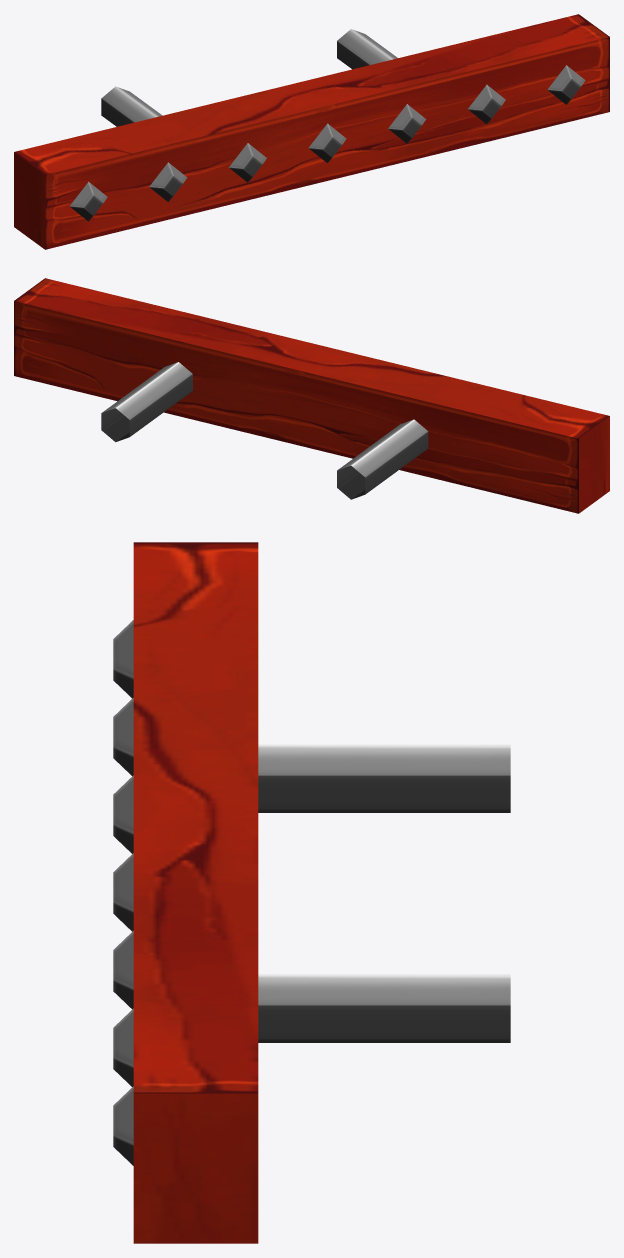
File: wall_red_04.fbx
3 renders of one model, top to bottom at view 1: azimuth 30°, elevation 25°; view 2: azimuth 150°, elevation 25°; view 3: azimuth 270°, elevation 25°, orthographic. The views are drawn at different scales.
Visible parts, largest first — view 1: wall_8, spring_9, spring_8; view 2: wall_8, spring_8, spring_9; view 3: wall_8, spring_8, spring_9.
Boxes of the visible parts, x1,y1,x2,y2 form: wall_8: (14,14,609,249); spring_9: (101,86,162,126); spring_8: (337,29,397,69); wall_8: (14,278,609,513); spring_8: (101,362,192,442); spring_9: (337,419,428,499); wall_8: (113,542,258,1243); spring_8: (258,974,510,1042); spring_9: (258,744,510,812).
Size of the model in its own units: 315 by 40 by 95.87.
